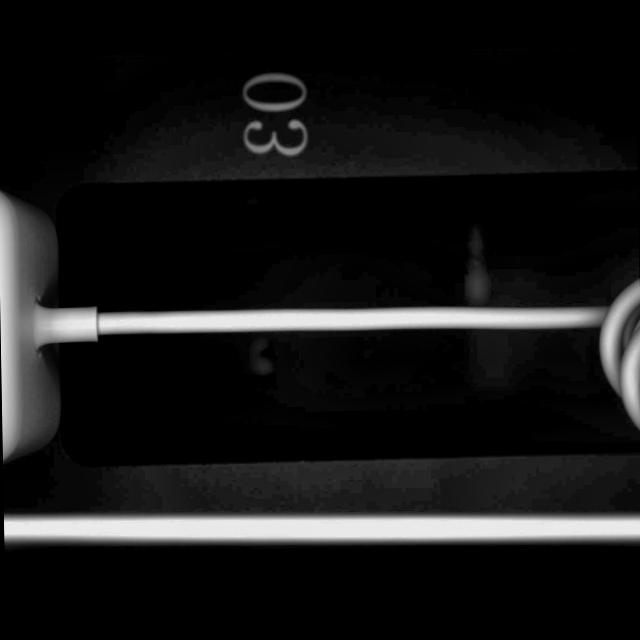Cable: (0, 171, 640, 487)
